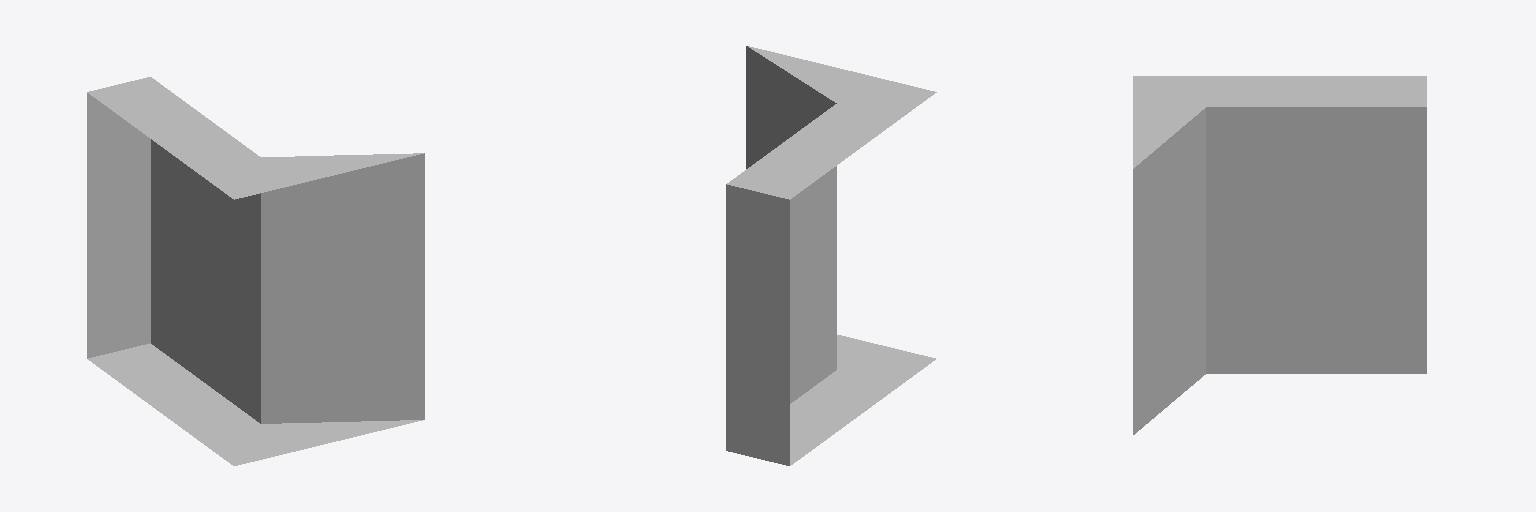
Rendered from trigger.obj.
3 renders of one model, left to right at view 1: azimuth 30°, elevation 25°; view 2: azimuth 150°, elevation 25°; view 3: azimuth 270°, elevation 25°, orthographic.
Parts seen in each view (by area): view 1: trigger_Mesh8_BOSCH1_drill1_Model.004; view 2: trigger_Mesh8_BOSCH1_drill1_Model.004; view 3: trigger_Mesh8_BOSCH1_drill1_Model.004.
Part boxes in pixels (left/top/right/bottom): trigger_Mesh8_BOSCH1_drill1_Model.004: left=87, top=77, right=424, bottom=465; trigger_Mesh8_BOSCH1_drill1_Model.004: left=726, top=46, right=936, bottom=465; trigger_Mesh8_BOSCH1_drill1_Model.004: left=1133, top=76, right=1426, bottom=434.
Bounding box in the file's own units: 0.015 × 0.02 × 0.02.